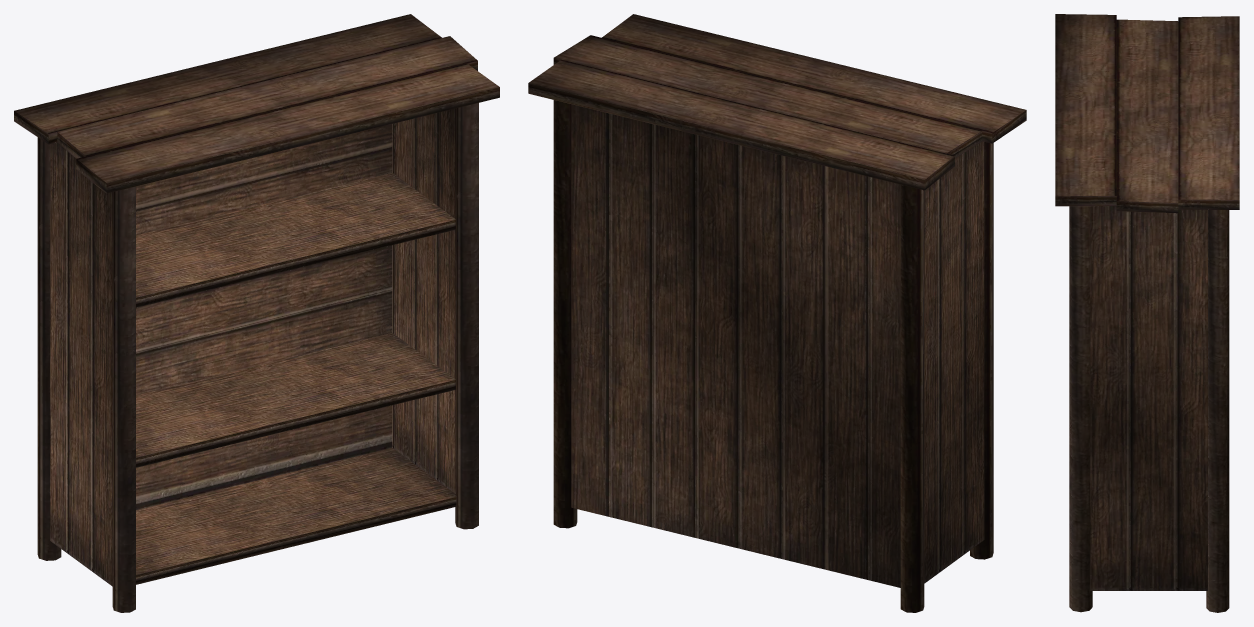
Rendered from GS_BOOKSHELF_OPEN_ORANGE_01_KOZA.glb.
3 renders of one model, left to right at view 1: azimuth 30°, elevation 25°; view 2: azimuth 150°, elevation 25°; view 3: azimuth 270°, elevation 25°, orthographic. The views are drawn at different scales.
Parts seen in each view (by area): view 1: Mesh; view 2: Mesh; view 3: Mesh.
Boxes of the visible parts, x1,y1,x2,y2 form: Mesh: (14, 14, 499, 612); Mesh: (528, 14, 1026, 612); Mesh: (1055, 14, 1239, 612).
Bounding box in the file's own units: 1.4 × 1.45 × 0.5776.
3 materials, 2 textured.
